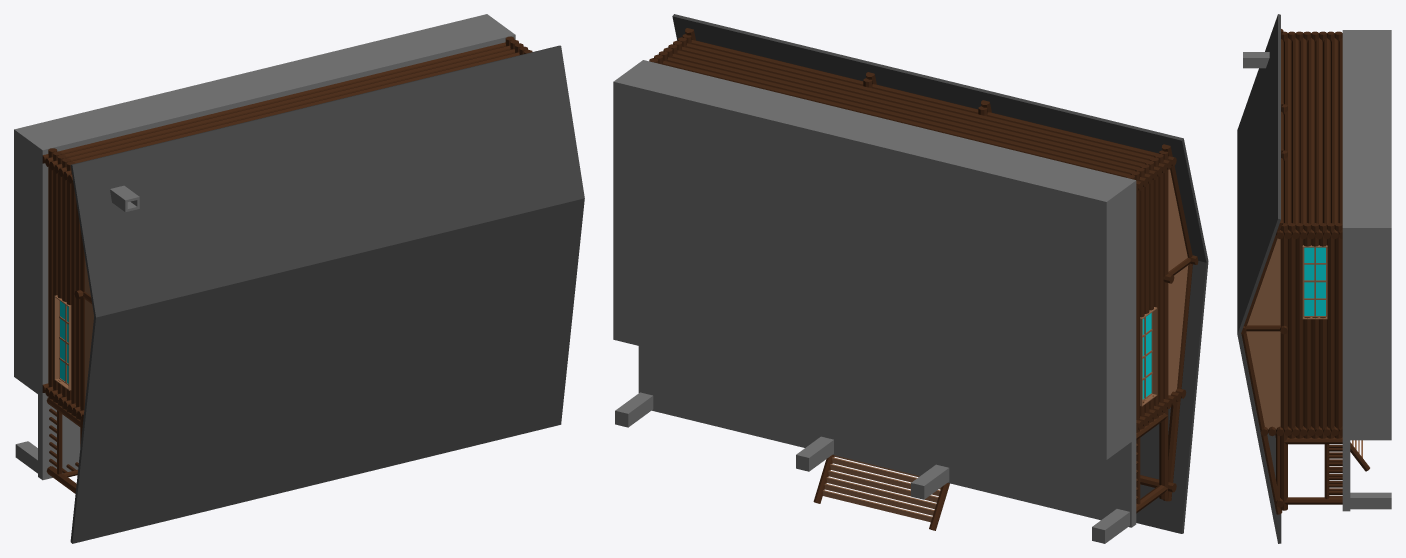
The model's file is Chalet.fbx.
The picture shows the model from 3 angles, left to right: view 1: azimuth 30°, elevation 25°; view 2: azimuth 150°, elevation 25°; view 3: azimuth 270°, elevation 25°; orthographic projection. The views are drawn at different scales.
Parts seen in each view (by area): view 1: Roof, CabinBase; view 2: CabinBase, Roof; view 3: CabinBase, Roof.
Boxes of the visible parts, x1,y1,x2,y2 form: Roof: (70,45,584,543); CabinBase: (14,14,532,493); CabinBase: (613,34,1176,543); Roof: (672,14,1208,533); CabinBase: (1243,30,1391,511); Roof: (1237,14,1287,543).
Bounding box in the file's own units: 62 × 46.83 × 19.73.
